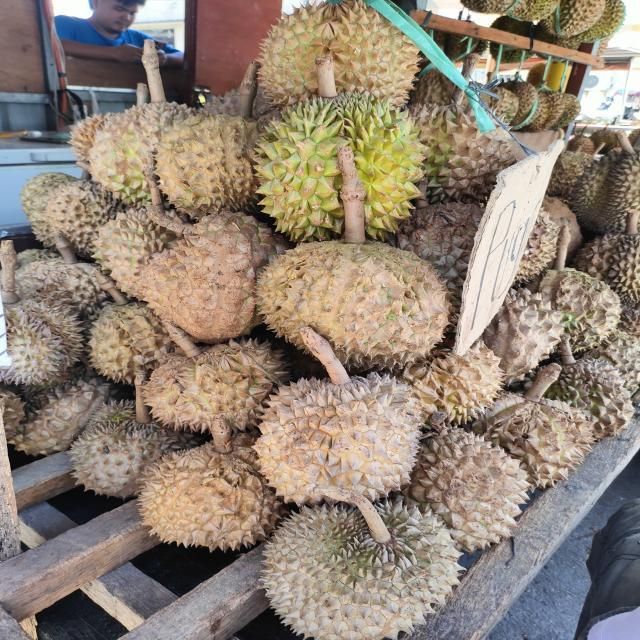mature: (261, 499, 467, 640), (250, 236, 450, 375), (251, 370, 423, 508), (128, 211, 290, 343), (135, 431, 293, 554), (255, 0, 423, 113), (389, 428, 532, 554), (139, 336, 297, 434), (458, 388, 598, 492)
